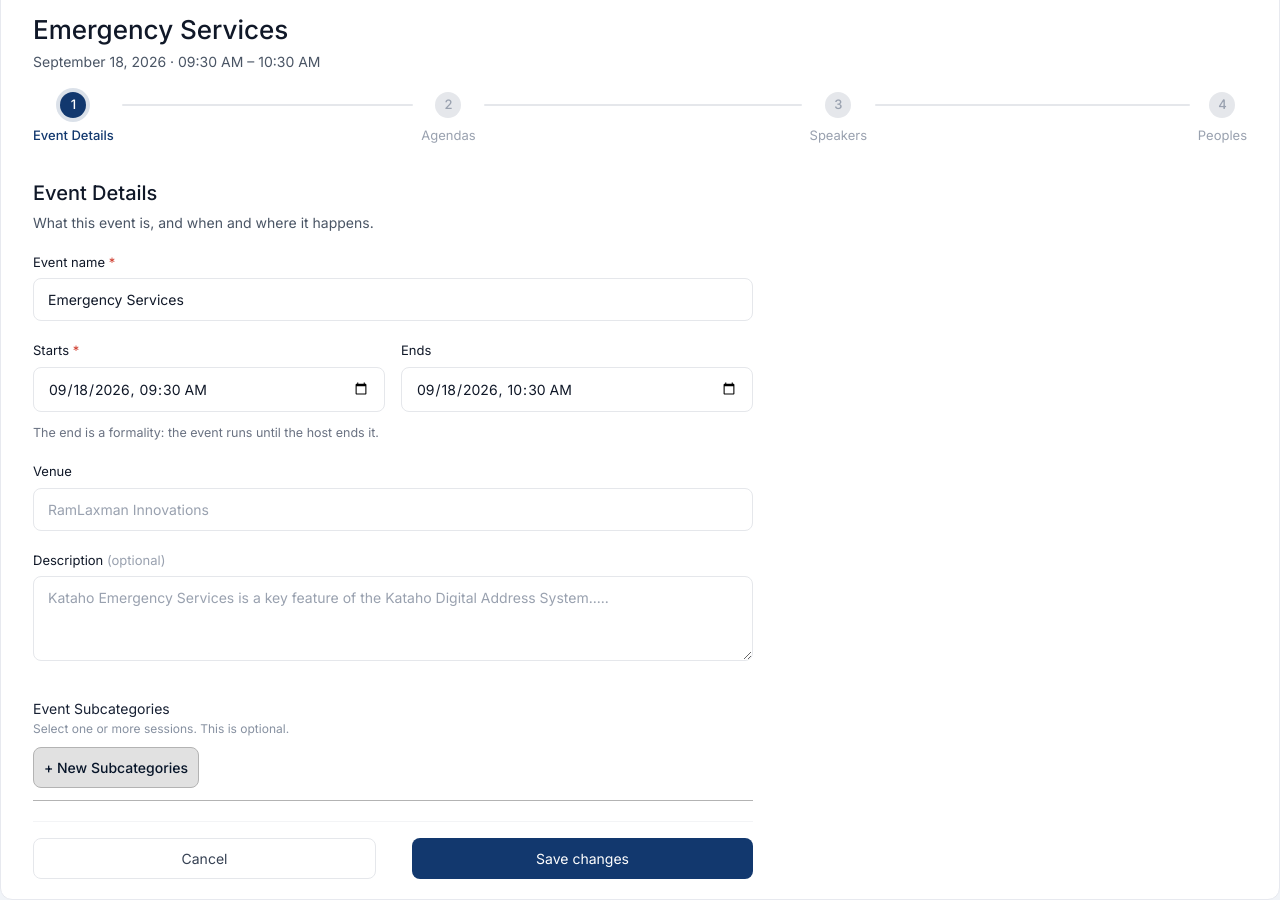
Test: the actions at the foot of each step › gives every step the same way out
(page scrolled)
expect the button "Cancel" is shown: met, box [33,838,376,879]
Click the button "Save changes": coordinates (582, 859) [412,838,753,879]
(page scrolled)
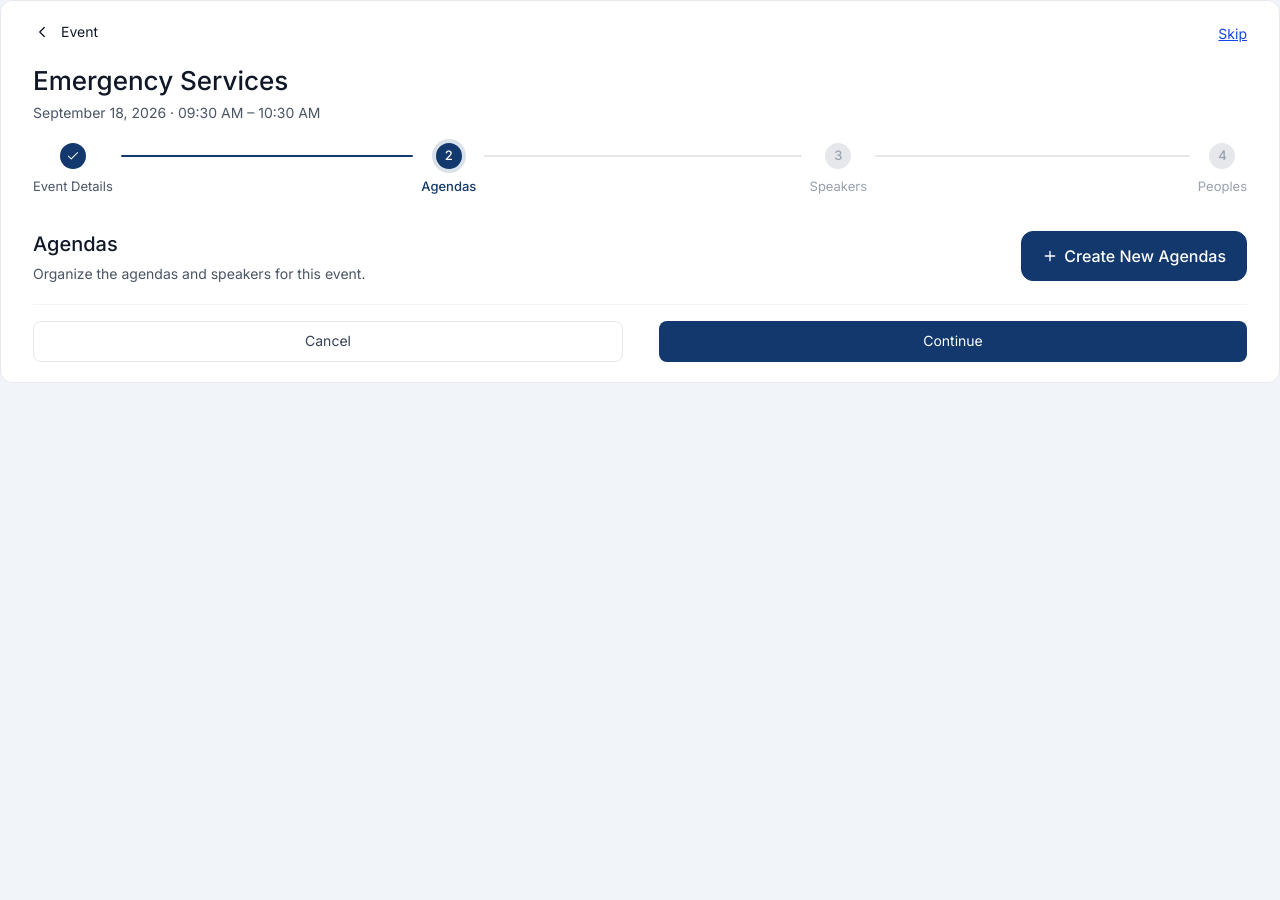
expect the button "Cancel" is shown: met, box [33,321,623,362]
expect the button "Continue" is shown: met, box [659,321,1247,362]
